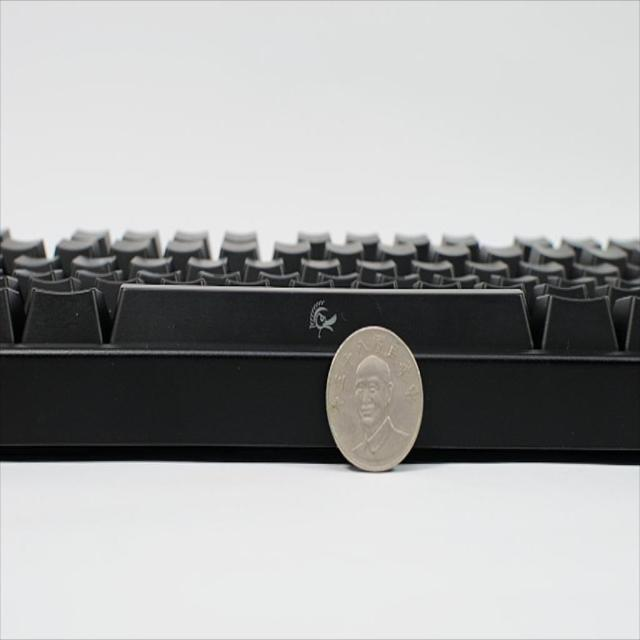Coin: (323, 322, 427, 469)
